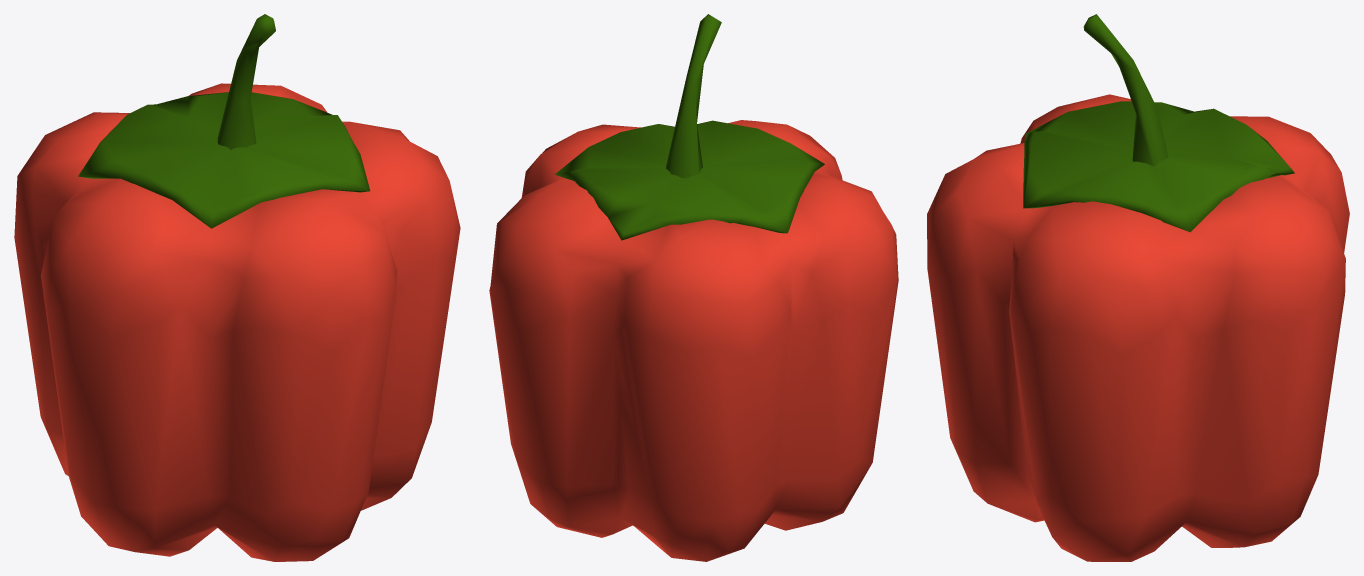
The model's file is pepper.fbx.
3 renders of one model, left to right at view 1: azimuth 30°, elevation 25°; view 2: azimuth 150°, elevation 25°; view 3: azimuth 270°, elevation 25°, orthographic. The views are drawn at different scales.
Visible parts, largest first — view 1: Bell_pepper.GR_7; view 2: Bell_pepper.GR_7; view 3: Bell_pepper.GR_7.
Part boxes in pixels (left/top/right/bottom): Bell_pepper.GR_7: left=14, top=14, right=460, bottom=561; Bell_pepper.GR_7: left=489, top=14, right=898, bottom=561; Bell_pepper.GR_7: left=927, top=14, right=1349, bottom=561.
Size of the model in its own units: 9.41 by 12.12 by 9.21.
